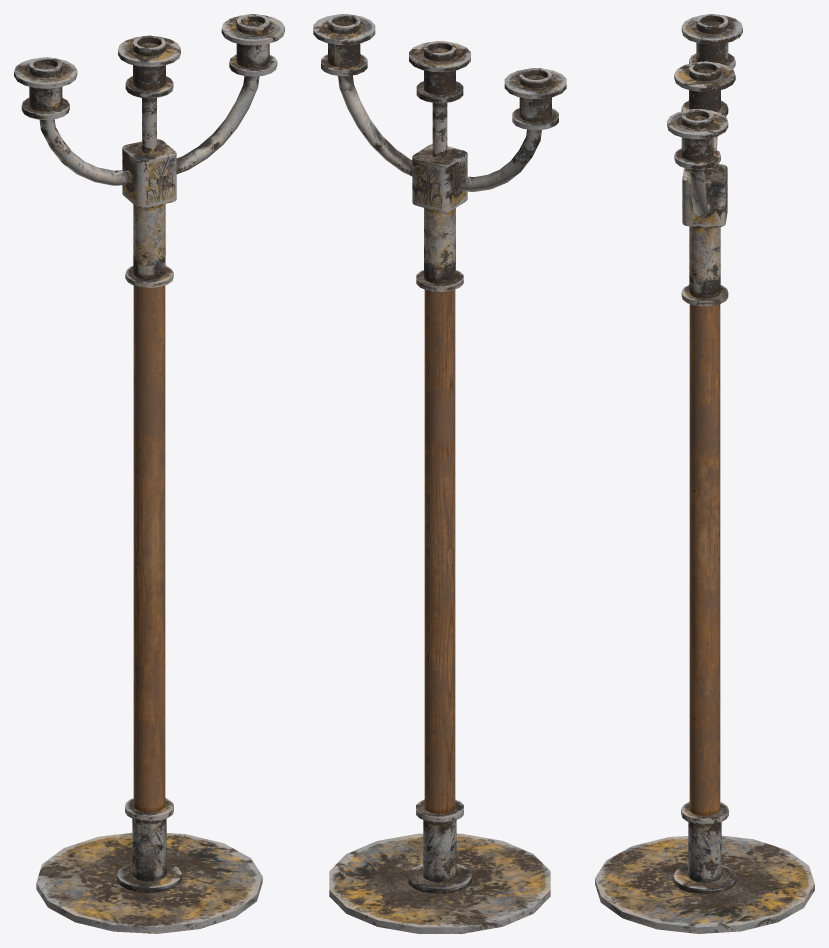
The model's file is CandleHolderLow.fbx.
3 renders of one model, left to right at view 1: azimuth 30°, elevation 25°; view 2: azimuth 150°, elevation 25°; view 3: azimuth 270°, elevation 25°, orthographic. The views are drawn at different scales.
Parts seen in each view (by area): view 1: Cylinder.023; view 2: Cylinder.023; view 3: Cylinder.023.
Boxes of the visible parts, x1,y1,x2,y2 form: Cylinder.023: (14, 14, 284, 933); Cylinder.023: (313, 14, 566, 933); Cylinder.023: (595, 14, 814, 933).
Size of the model in its own units: 58.01 by 184 by 44.64.
